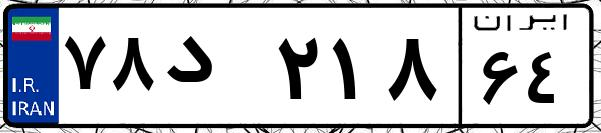1: (330, 28, 385, 110)
2: (270, 28, 330, 110)
4: (525, 38, 570, 115)
6: (475, 38, 525, 113)
7: (57, 26, 110, 100)
8: (385, 28, 445, 110), (110, 28, 158, 98)
د: (158, 20, 270, 120)
